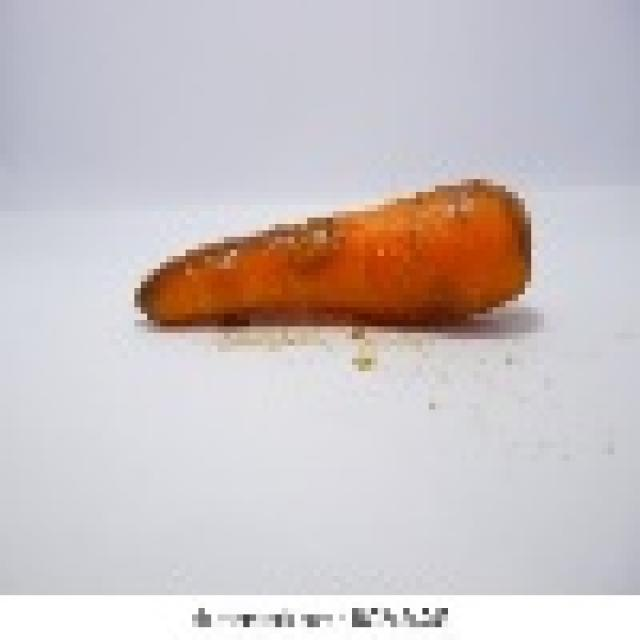Stale_Carrot: (132, 176, 536, 342)
